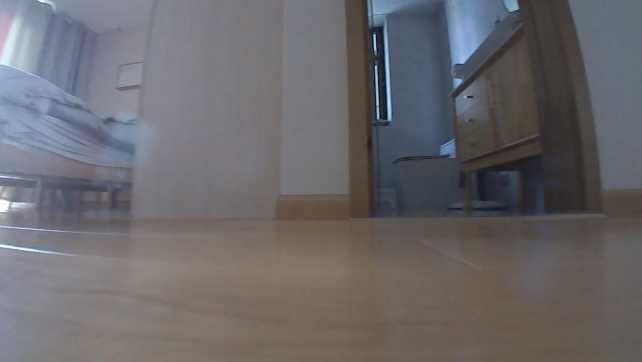bed1: (0, 63, 134, 213)
toilet: (391, 137, 460, 211)
